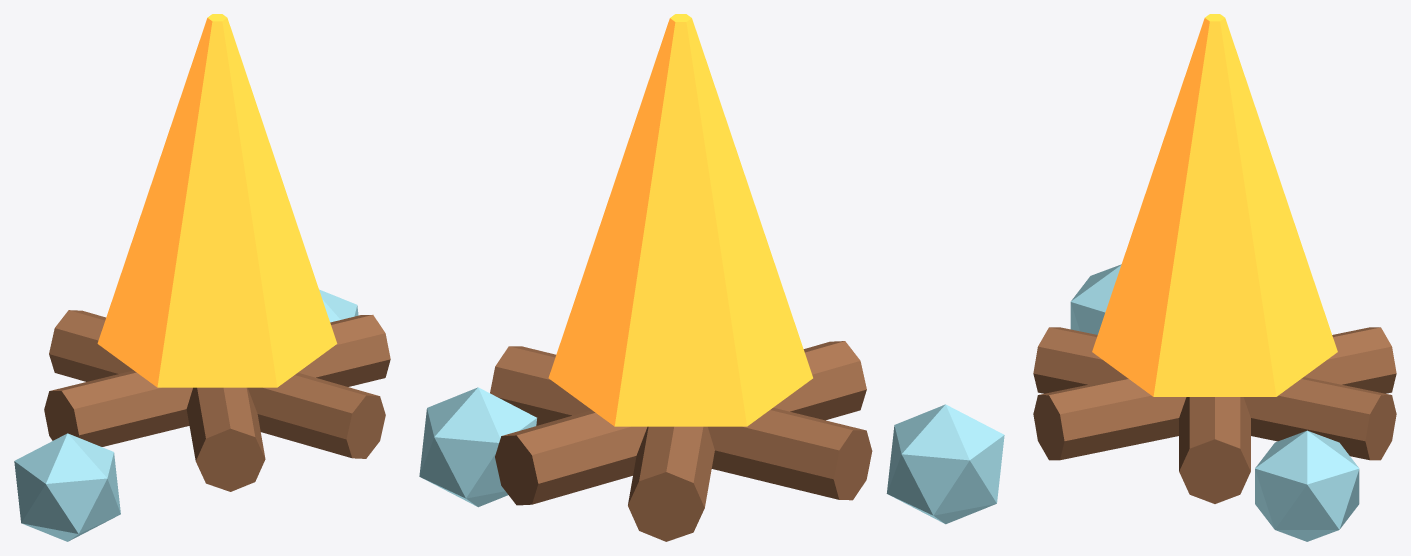
The model's file is camp.glb.
3 renders of one model, left to right at view 1: azimuth 30°, elevation 25°; view 2: azimuth 150°, elevation 25°; view 3: azimuth 270°, elevation 25°, orthographic. The views are drawn at different scales.
Visible parts, largest first — view 1: Camp_FlameOuter, Camp_Log_0, Camp_Log_2, Camp_Stone_0, Camp_Log_3, Camp_Log_1, Camp_Stone_1; view 2: Camp_FlameOuter, Camp_Log_3, Camp_Log_0, Camp_Stone_0, Camp_Stone_1, Camp_Log_2, Camp_Log_1; view 3: Camp_FlameOuter, Camp_Log_2, Camp_Log_3, Camp_Stone_1, Camp_Log_0, Camp_Log_1, Camp_Stone_0.
Part boxes in pixels (x1=…): Camp_FlameOuter: x1=97, y1=14, x2=337, y2=387; Camp_Log_0: x1=44, y1=315, x2=390, y2=446; Camp_Log_2: x1=49, y1=310, x2=385, y2=458; Camp_Stone_0: x1=14, y1=433, x2=120, y2=541; Camp_Log_3: x1=186, y1=387, x2=265, y2=491; Camp_Log_1: x1=44, y1=315, x2=389, y2=446; Camp_Stone_1: x1=319, y1=289, x2=358, y2=322; Camp_FlameOuter: x1=548, y1=14, x2=812, y2=426; Camp_Log_3: x1=495, y1=341, x2=866, y2=505; Camp_Log_0: x1=490, y1=346, x2=871, y2=500; Camp_Stone_0: x1=886, y1=404, x2=1004, y2=524; Camp_Stone_1: x1=419, y1=387, x2=536, y2=507; Camp_Log_2: x1=628, y1=426, x2=714, y2=541; Camp_Log_1: x1=490, y1=346, x2=872, y2=500; Camp_FlameOuter: x1=1092, y1=14, x2=1337, y2=396; Camp_Log_2: x1=1033, y1=327, x2=1396, y2=460; Camp_Log_3: x1=1033, y1=327, x2=1396, y2=460; Camp_Stone_1: x1=1255, y1=430, x2=1359, y2=541; Camp_Log_0: x1=1179, y1=397, x2=1250, y2=503; Camp_Log_1: x1=1179, y1=397, x2=1250, y2=502; Camp_Stone_0: x1=1070, y1=264, x2=1121, y2=334.
Size of the model in its own units: 0.9847 by 0.98 by 0.7092.
